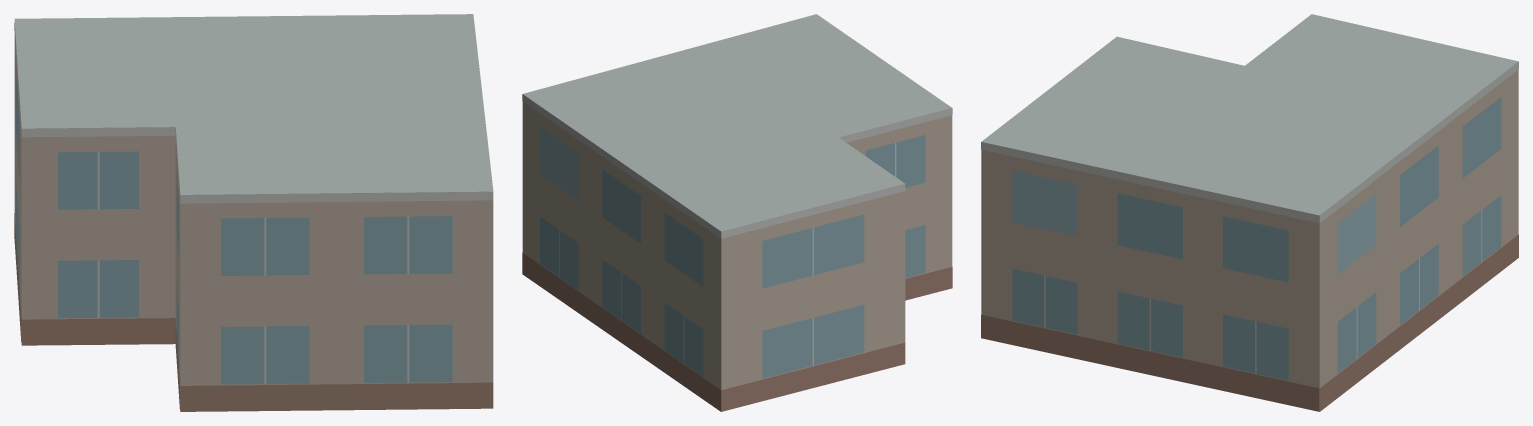
The model's file is survey-upis-32973327.glb.
3 views of the same model, side by side, from view 1: azimuth 30°, elevation 25°; view 2: azimuth 150°, elevation 25°; view 3: azimuth 270°, elevation 25° (orthographic). The views are drawn at different scales.
Visible parts, largest first — view 1: survey-upis-32973327.tmp; view 2: survey-upis-32973327.tmp; view 3: survey-upis-32973327.tmp.
Boxes of the visible parts, x1,y1,x2,y2 form: survey-upis-32973327.tmp: (14,14,493,411); survey-upis-32973327.tmp: (522,14,952,411); survey-upis-32973327.tmp: (981,14,1518,411).
Bounding box in the file's own units: 13.43 × 6.1 × 15.14.
